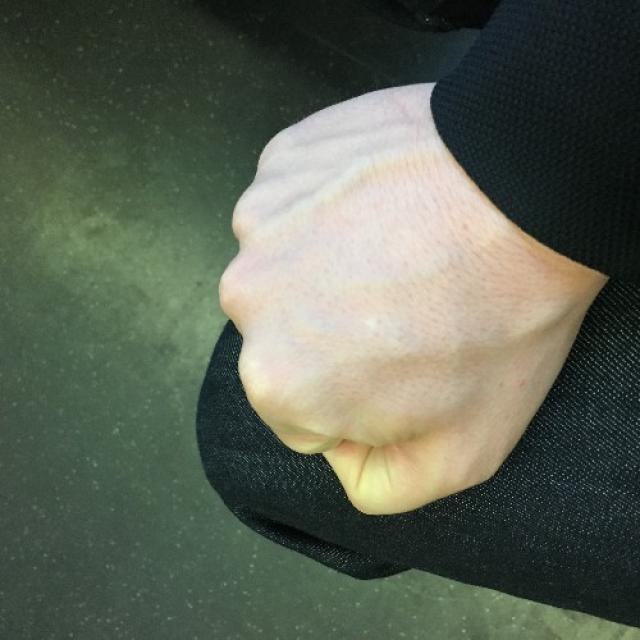fist: (208, 75, 611, 518)
